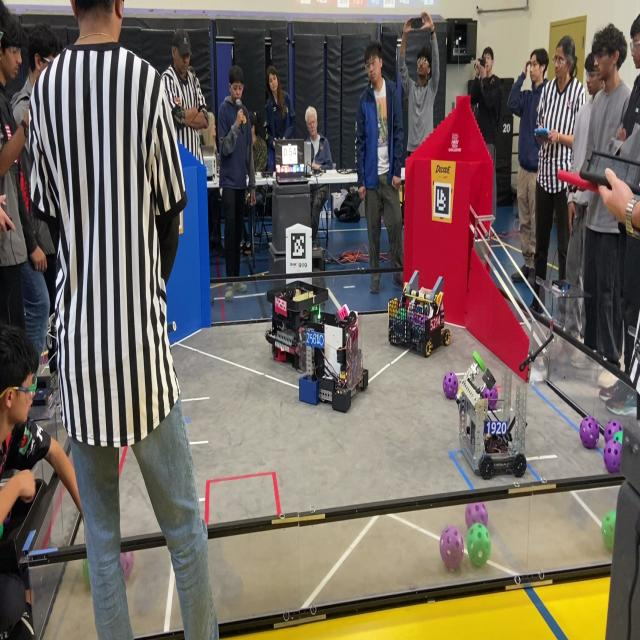artifact_green: (467, 523, 490, 567), (601, 510, 615, 550), (473, 351, 486, 372), (83, 559, 90, 589), (613, 431, 623, 444), (3, 511, 11, 526), (398, 309, 406, 319), (0, 523, 3, 540)
artifact_purple: (440, 526, 463, 570), (580, 416, 599, 449), (465, 503, 488, 529), (604, 440, 621, 472), (442, 372, 458, 400), (604, 420, 622, 442), (120, 552, 133, 580), (483, 387, 497, 410), (3, 511, 10, 527)
